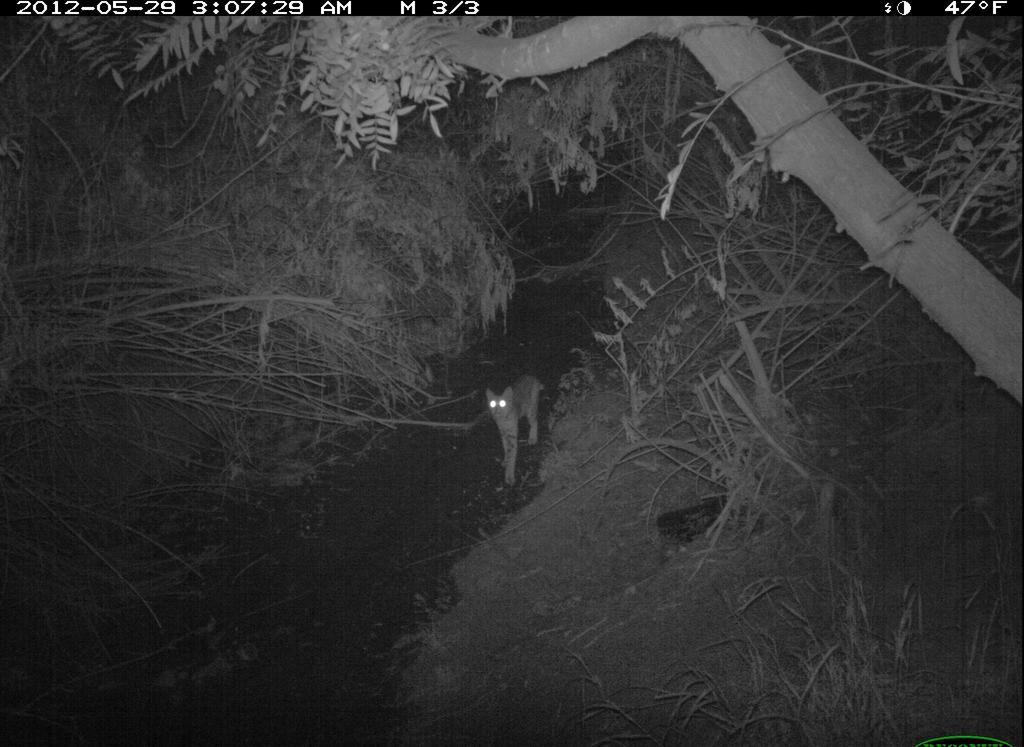bobcat: (481, 369, 550, 496)
